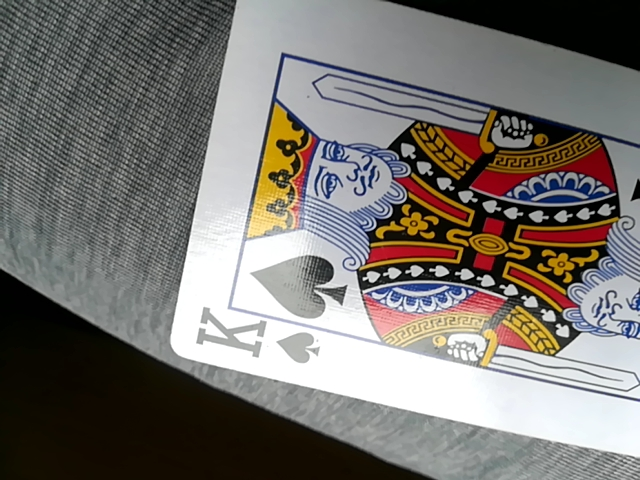ht k: (162, 2, 635, 476)
